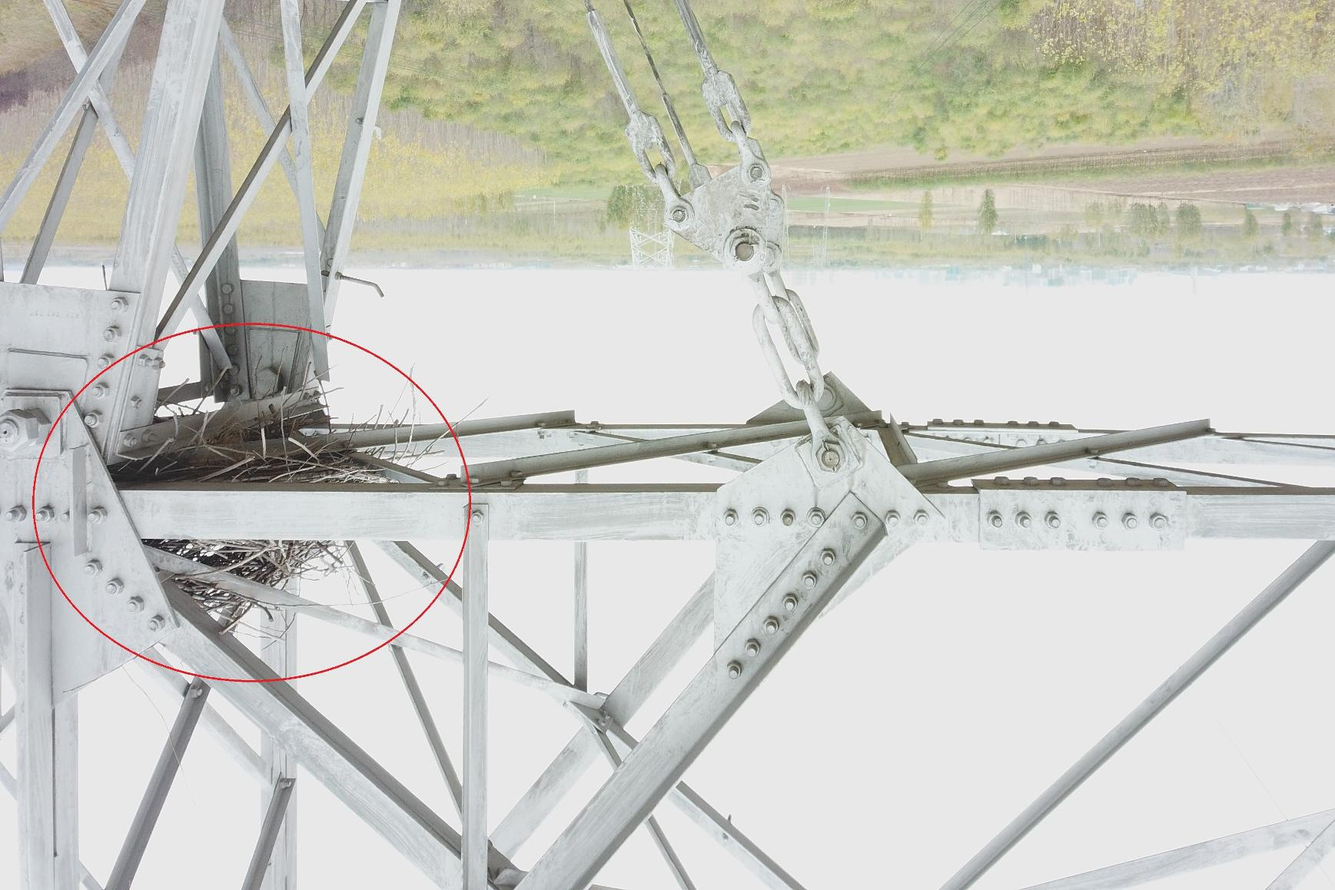nest: (123, 375, 409, 636)
